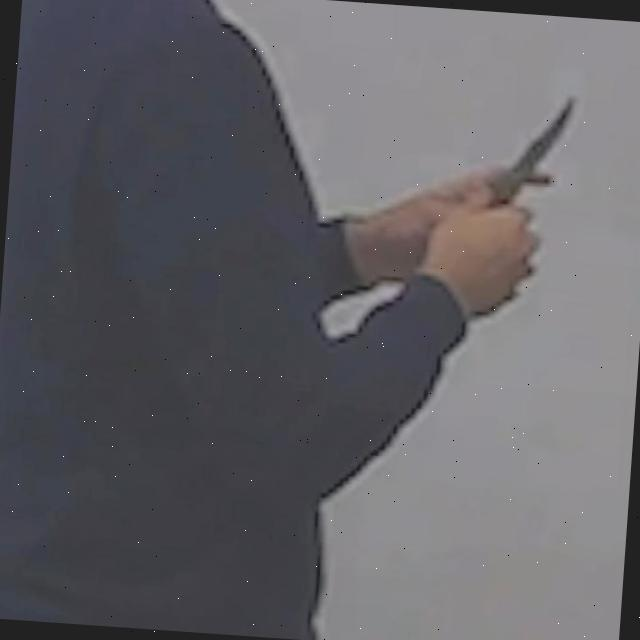suspicion: (66, 0, 589, 561), (494, 86, 580, 204)
